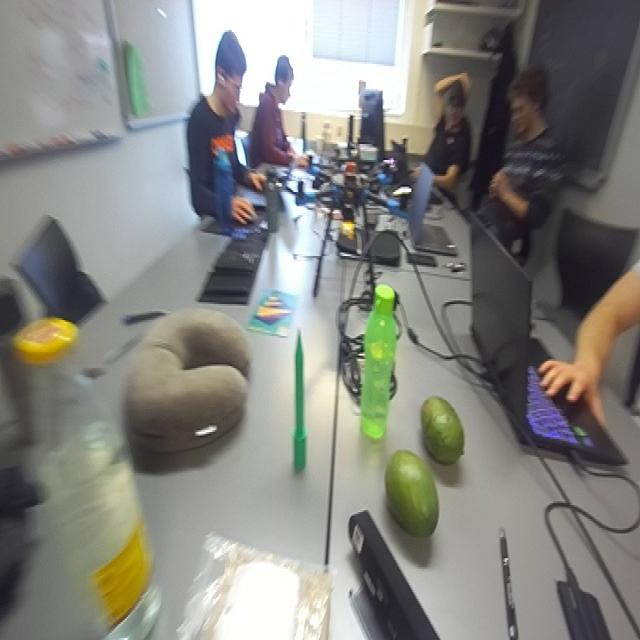probe: (294, 334, 306, 474)
